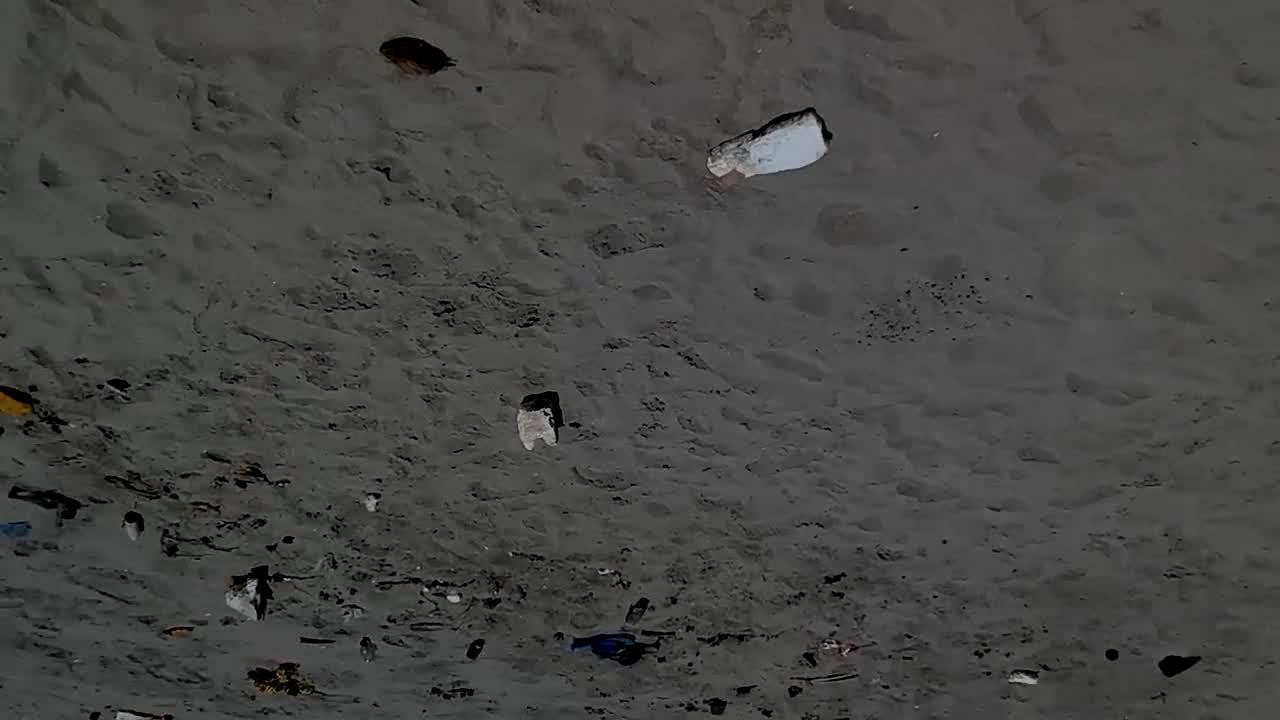large collection of objects: (702, 109, 831, 179), (520, 391, 560, 450), (226, 574, 267, 620), (465, 641, 483, 659)
obj: (6, 488, 78, 529), (380, 35, 448, 78), (570, 636, 662, 664), (247, 662, 315, 696), (1, 386, 33, 417), (0, 521, 32, 538), (625, 602, 648, 625), (124, 512, 140, 539), (1008, 672, 1038, 684), (446, 594, 461, 604)
